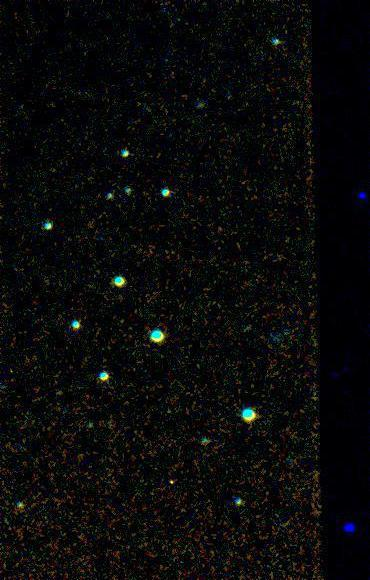star: (156, 467, 186, 497)
